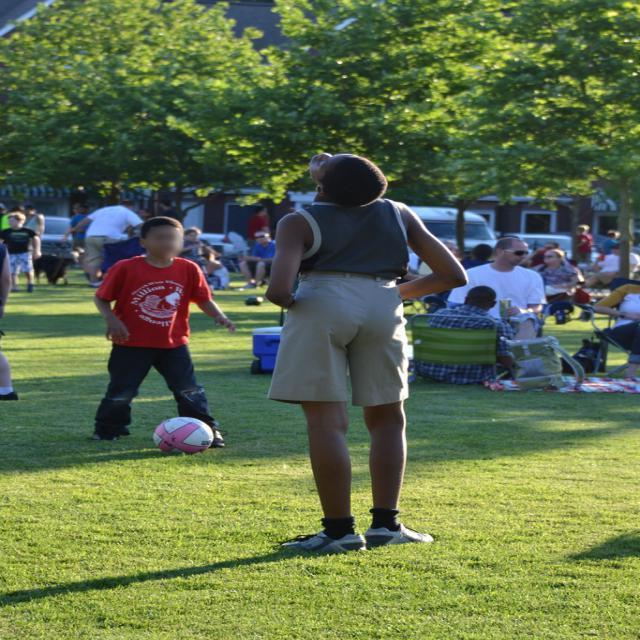ball: (152, 417, 216, 453)
